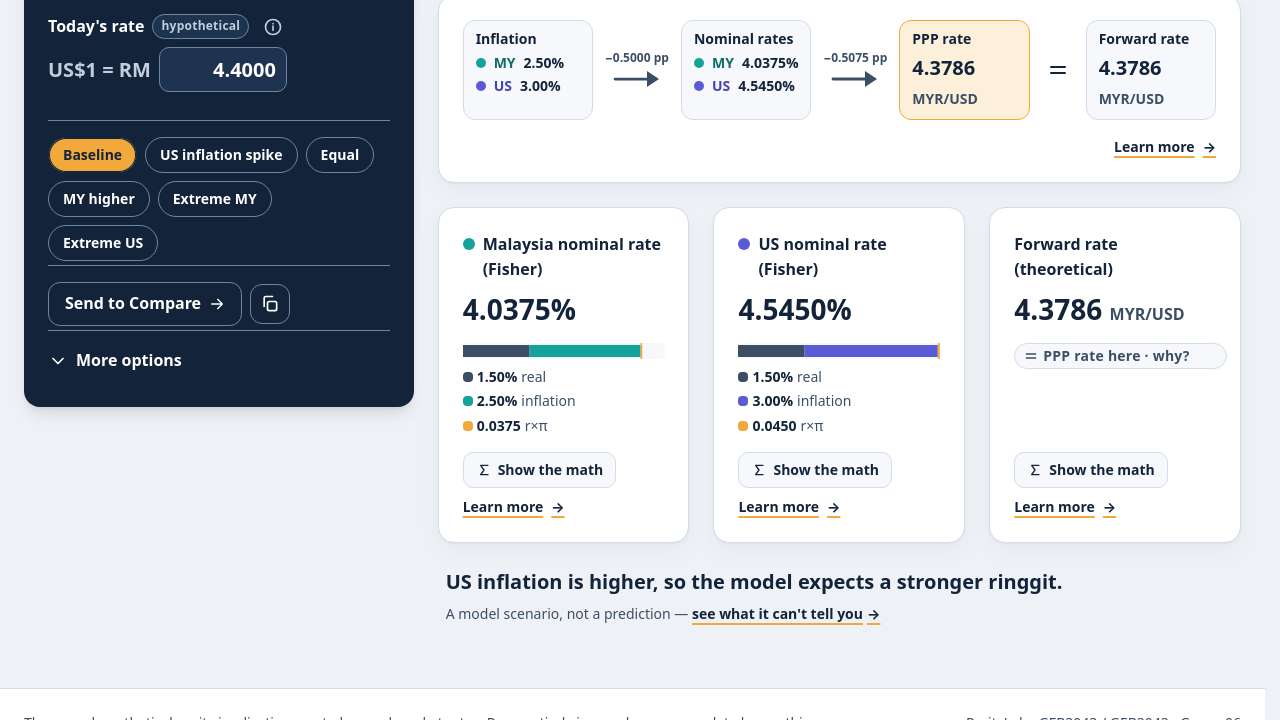
Test case: Simulator — baseline and presets (QA checklist) › the switch turns advanced mode on and off without losing the common rate
(page scrolled)
Click the button "More options": point(129, 360) left=48, top=339, right=390, bottom=383
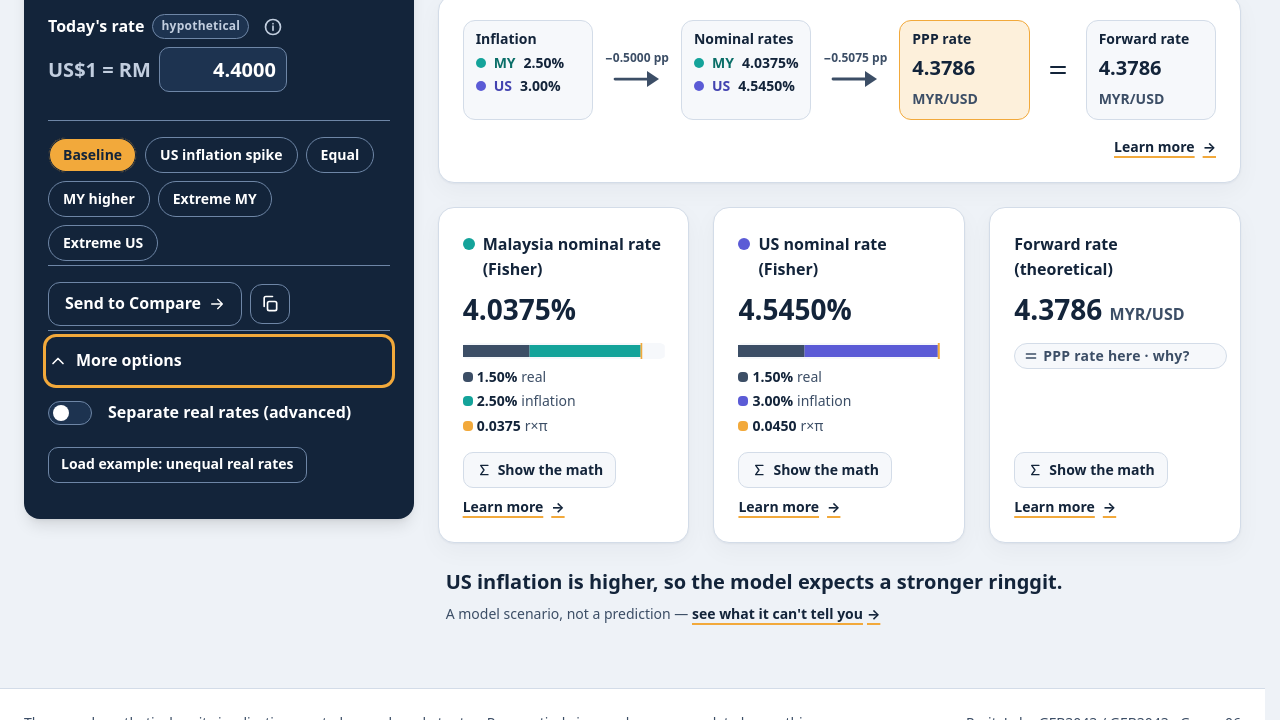
Click the switch labelled "Separate real rates (advanced)": point(200, 413) left=48, top=391, right=351, bottom=435
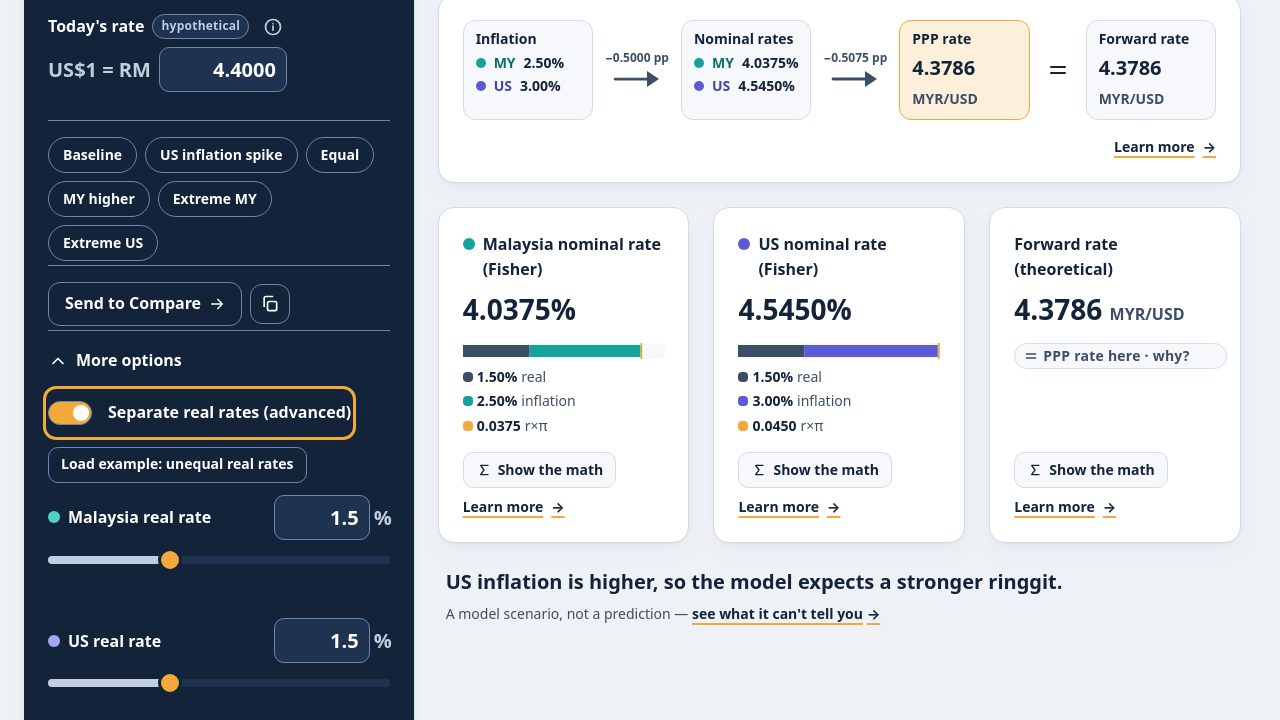
Expected: the field labelled "Malaysia real rate" holds "1.5", left=274, top=495, right=370, bottom=540
Click the switch labelled "Separate real rates (advanced)": point(200, 413) left=48, top=391, right=351, bottom=435
(page scrolled)
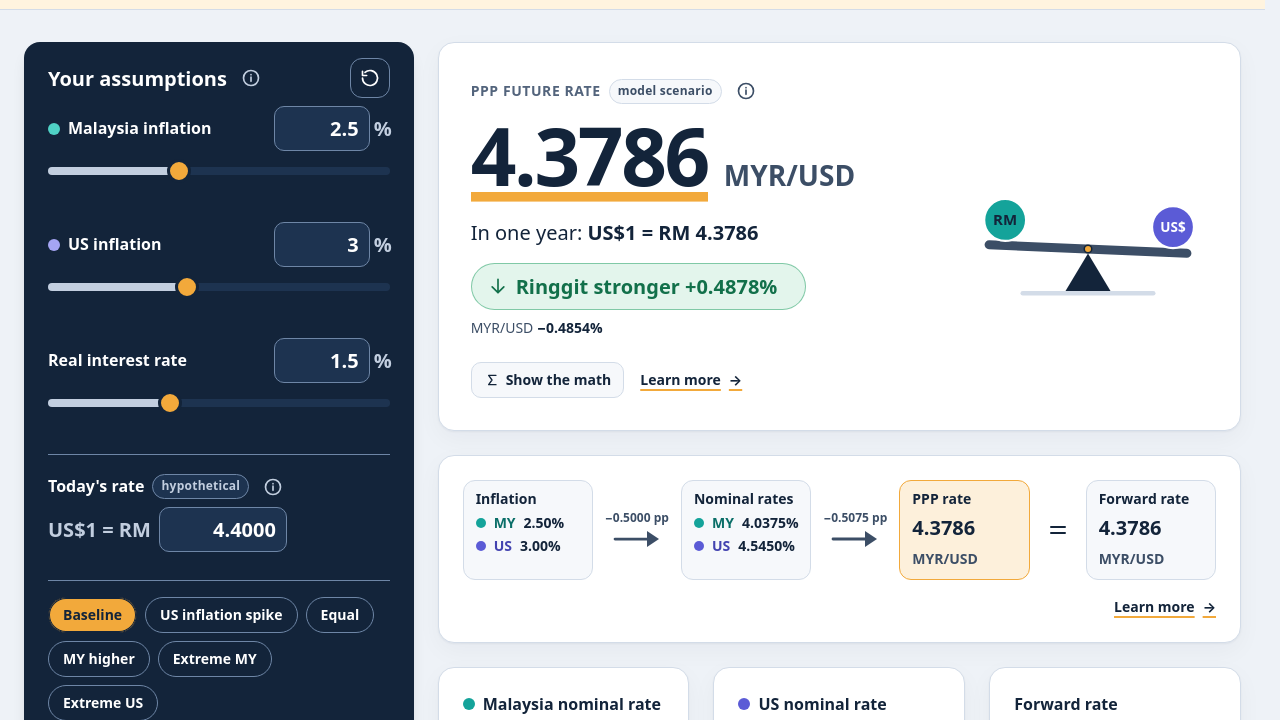
Expected: the field labelled "Real interest rate" holds "1.5", left=274, top=338, right=370, bottom=383
